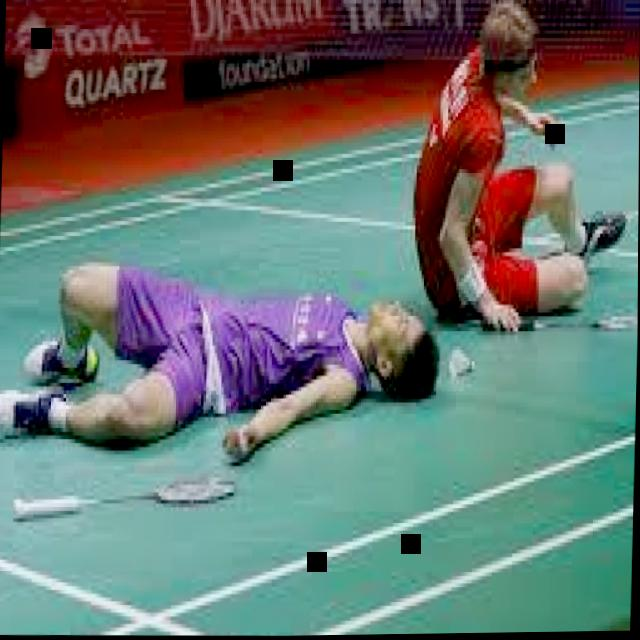Fall-Detected: (393, 0, 638, 344)
